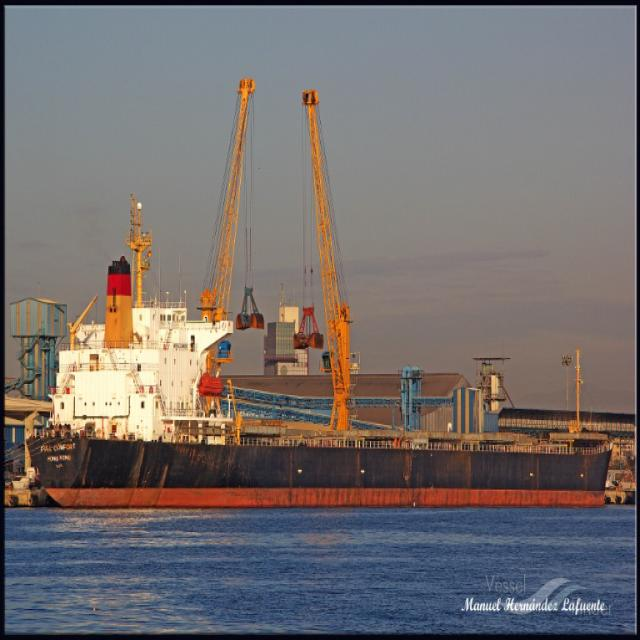OCR: (34, 440, 78, 476)
